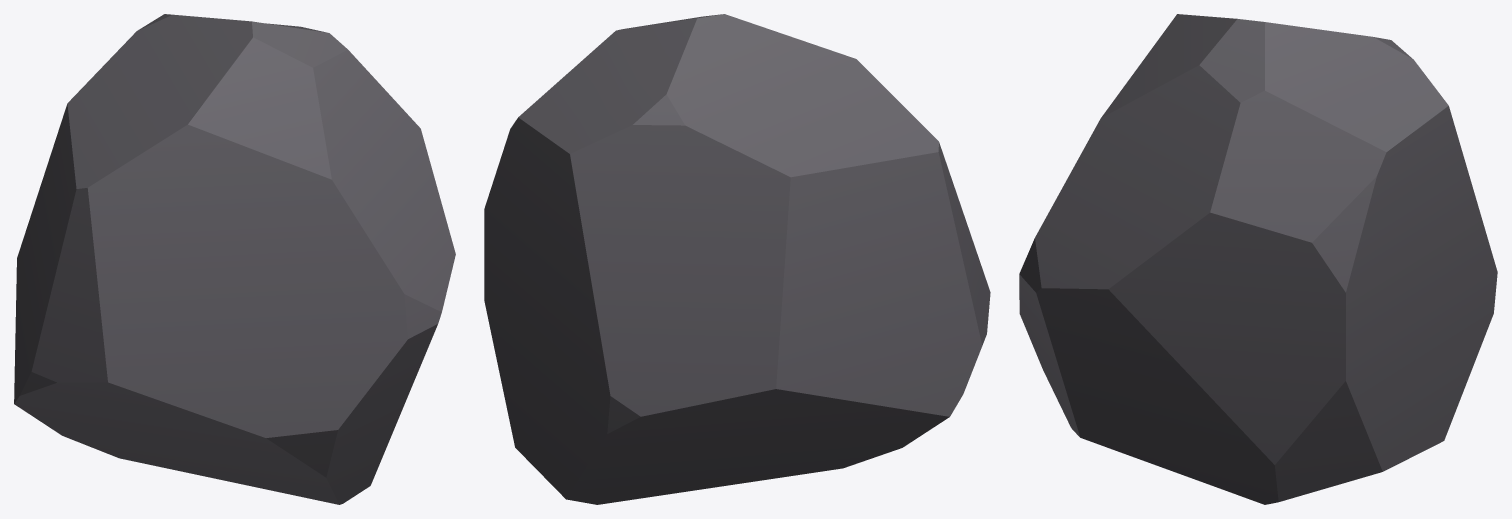
The model's file is Rock_01.fbx.
3 views of the same model, side by side, from view 1: azimuth 30°, elevation 25°; view 2: azimuth 150°, elevation 25°; view 3: azimuth 270°, elevation 25° (orthographic). The views are drawn at different scales.
Parts seen in each view (by area): view 1: Rock_01_LOD0; view 2: Rock_01_LOD0; view 3: Rock_01_LOD0.
Part boxes in pixels (box(x1,y1,x2,y2)): Rock_01_LOD0: box(14, 14, 455, 504); Rock_01_LOD0: box(484, 14, 990, 504); Rock_01_LOD0: box(1019, 14, 1497, 504).
Size of what is drawn, in the model's own units: 0.438 by 0.4385 by 0.4444.
